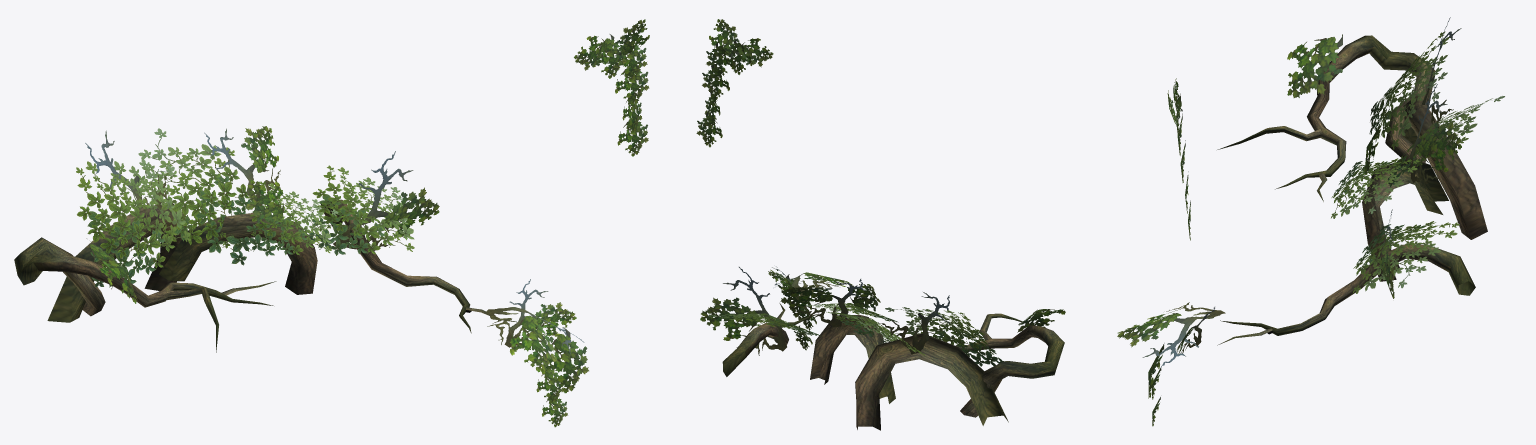
Rendered from zhiwu.FBX.
3 renders of one model, left to right at view 1: azimuth 30°, elevation 25°; view 2: azimuth 150°, elevation 25°; view 3: azimuth 270°, elevation 25°, orthographic. The views are drawn at different scales.
Visible parts, largest first — view 1: Plane001, Plane020; view 2: Plane001, Plane020; view 3: Plane001, Plane020.
Boxes of the visible parts, x1=… form: Plane001: x1=14, y1=126, x2=588, y2=427; Plane020: x1=574, y1=19, x2=649, y2=156; Plane001: x1=700, y1=266, x2=1065, y2=430; Plane020: x1=696, y1=19, x2=773, y2=147; Plane001: x1=1117, y1=17, x2=1504, y2=426; Plane020: x1=1167, y1=78, x2=1190, y2=240.
Bounding box in the file's own units: 2052 × 1414 × 1388.
